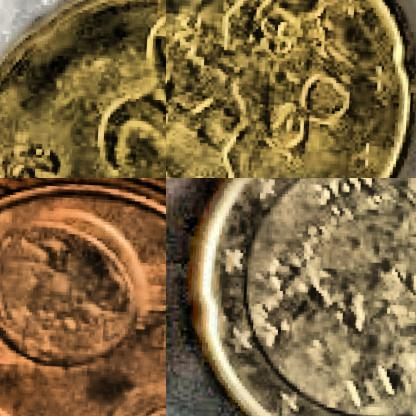coin: (179, 178, 415, 415), (166, 0, 415, 177), (0, 178, 165, 415), (0, 0, 165, 177)
